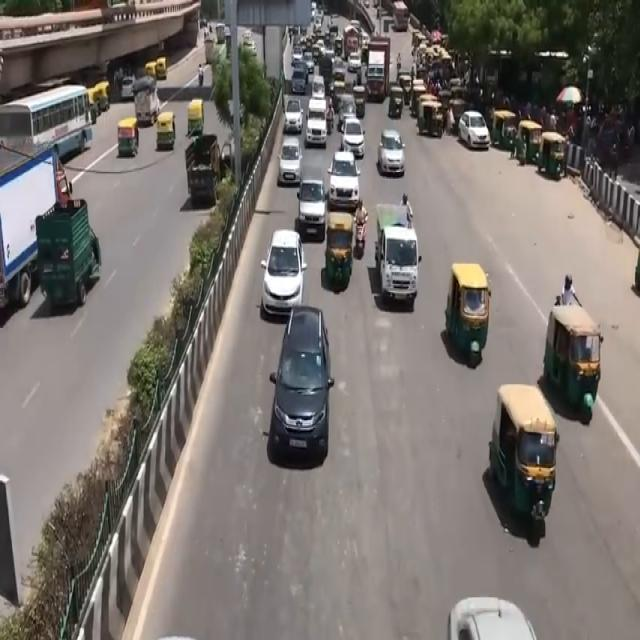BUS: (0, 86, 92, 166)
